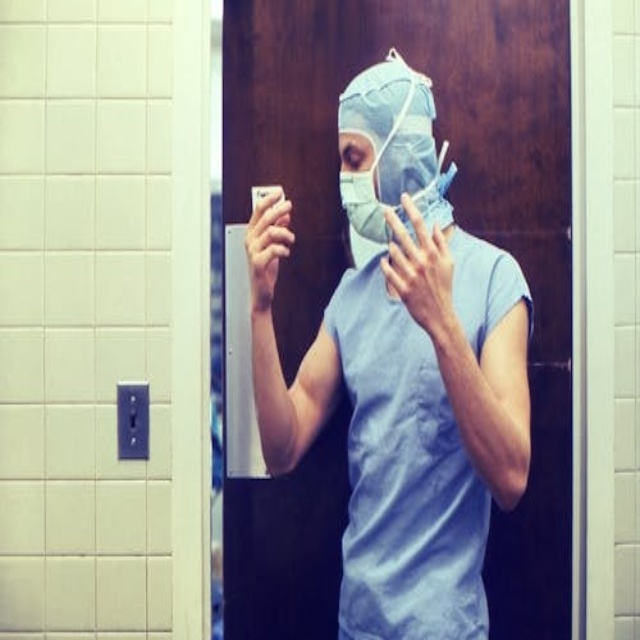Mascara: (342, 162, 453, 270)
Sin_gafas: (343, 145, 364, 167)
Sin_guantes: (378, 196, 458, 338), (244, 189, 296, 311)
